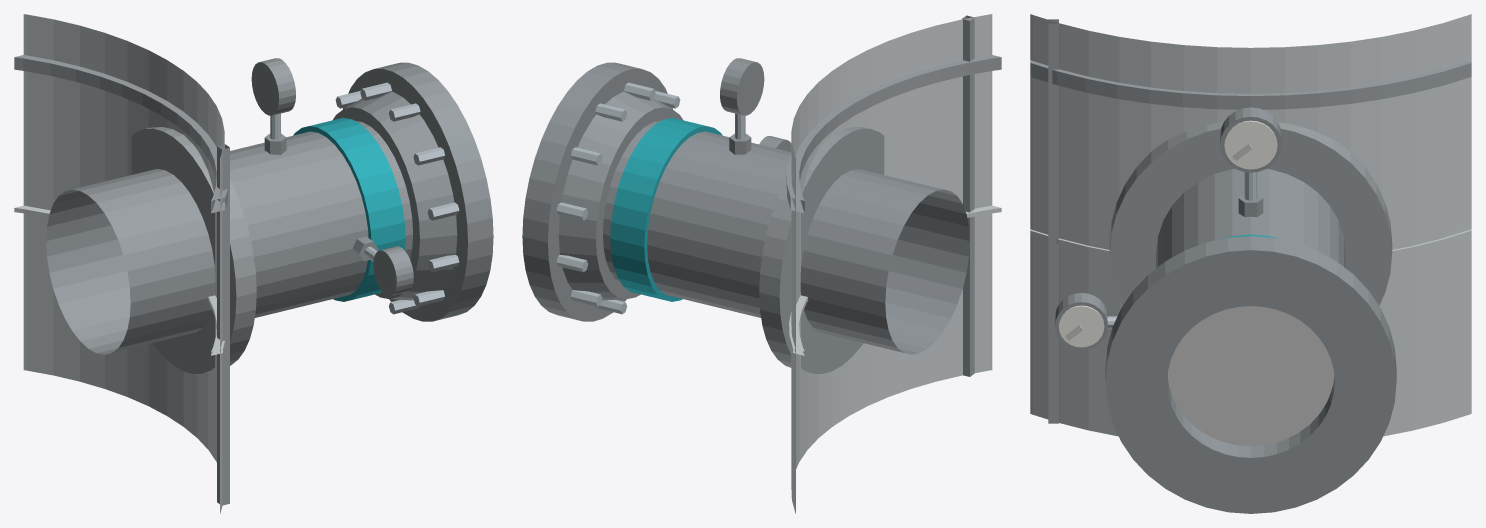
The model's file is cell_59.obj.
3 renders of one model, left to right at view 1: azimuth 30°, elevation 25°; view 2: azimuth 150°, elevation 25°; view 3: azimuth 270°, elevation 25°, orthographic. The views are drawn at different scales.
Bounding box in the file's own units: 1 × 1 × 1.
